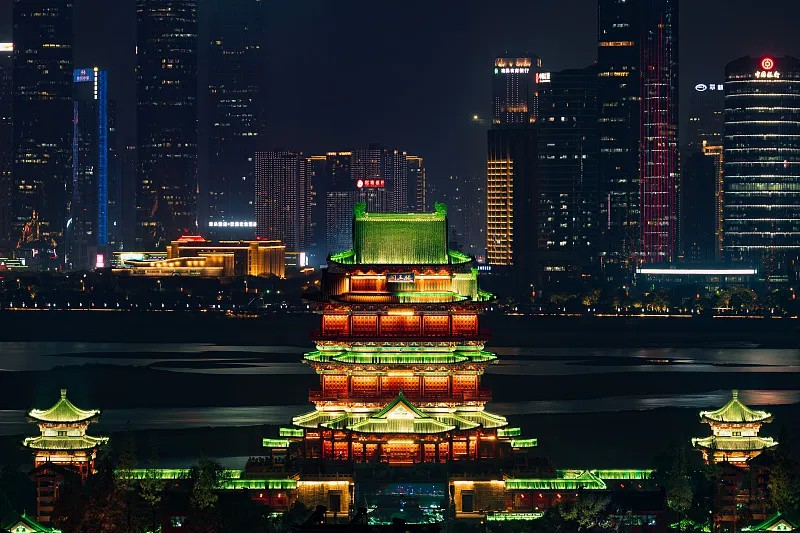Teng: (261, 201, 539, 468)
